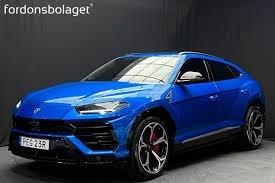license-plates: (20, 136, 49, 150)
